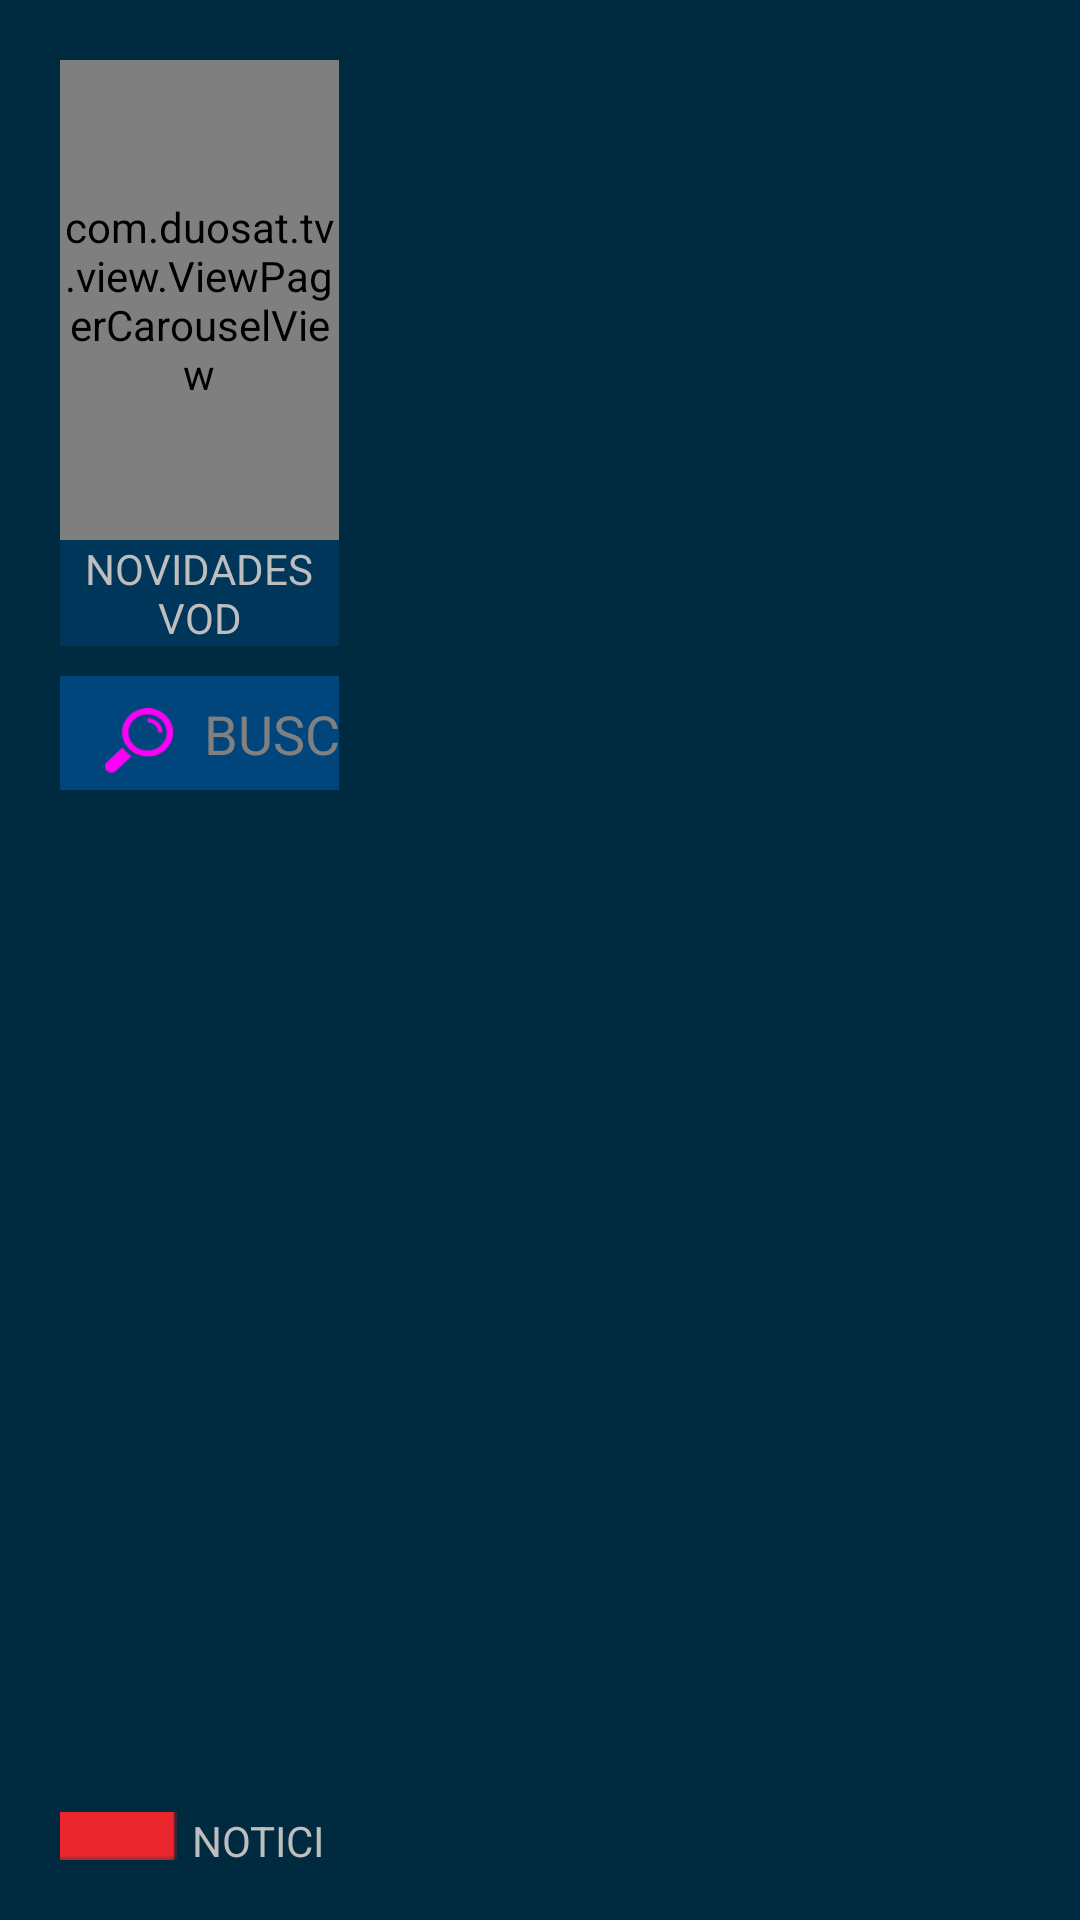

Named icons in this screenshot (1080×1920) and their centers, (x,y):
search vod: (139,740)
